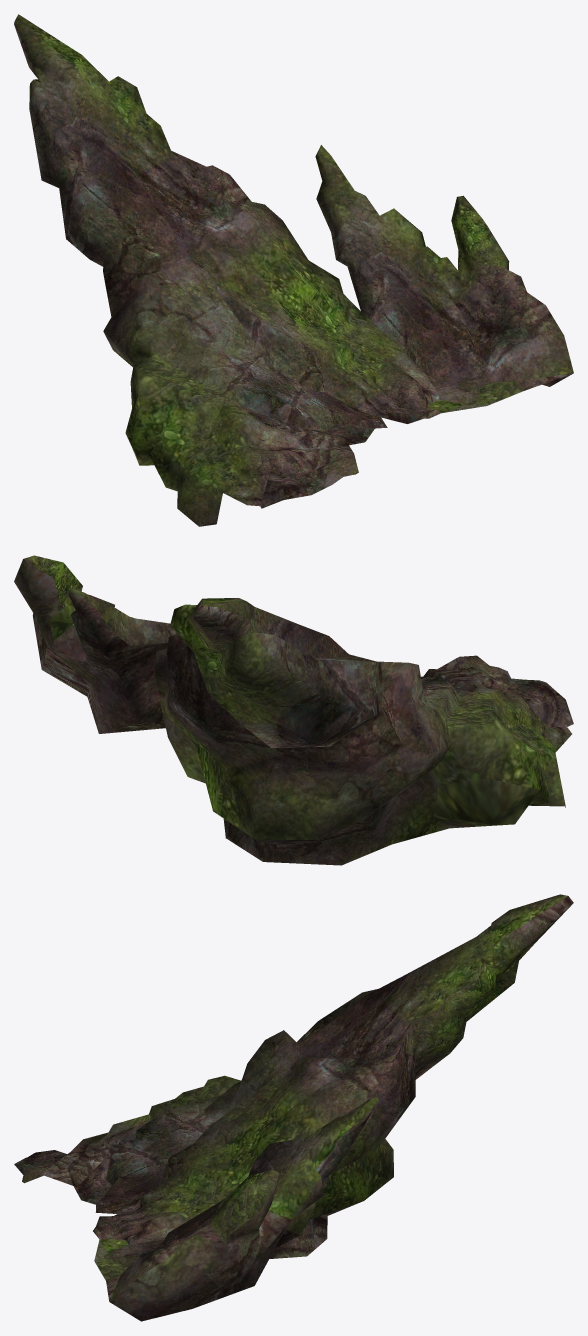
Rendered from S_Rock_Green069.FBX.
The picture shows the model from 3 angles, top to bottom: view 1: azimuth 30°, elevation 25°; view 2: azimuth 150°, elevation 25°; view 3: azimuth 270°, elevation 25°; orthographic projection. The views are drawn at different scales.
Parts seen in each view (by area): view 1: S_Rock_Green069; view 2: S_Rock_Green069; view 3: S_Rock_Green069.
Boxes of the visible parts, box(x1,y1,x2,y2) form: S_Rock_Green069: box(14, 14, 573, 526); S_Rock_Green069: box(14, 555, 573, 865); S_Rock_Green069: box(14, 894, 573, 1321).
Size of the model in its own units: 411 by 317 by 512.
